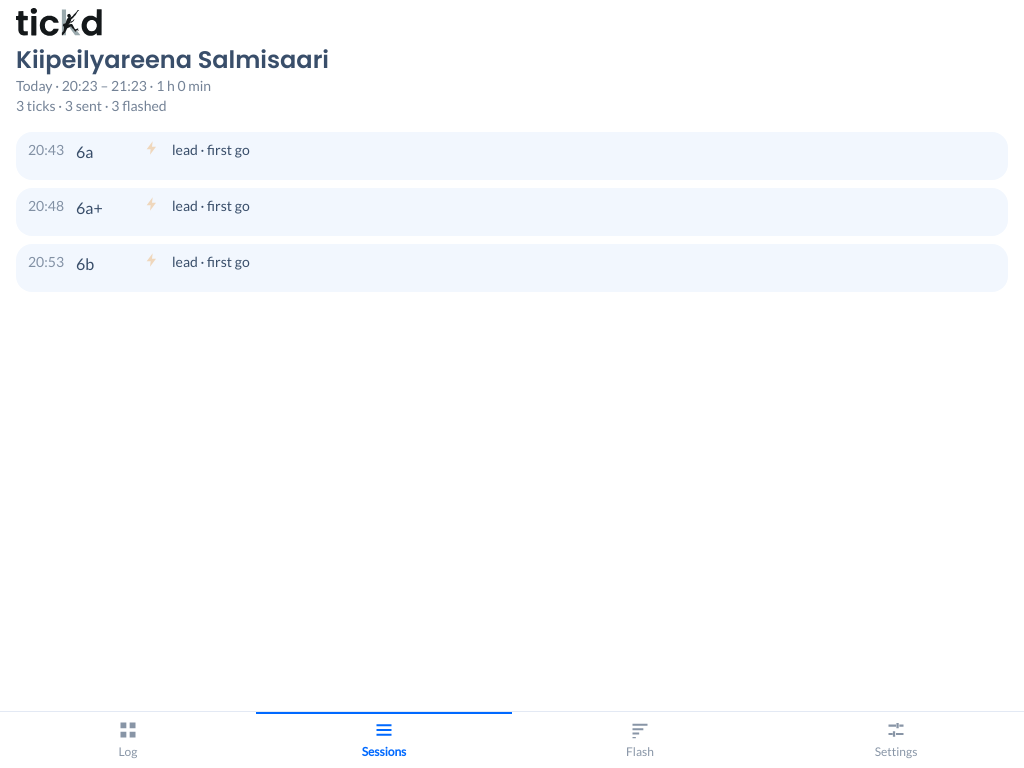
it: correcting a go from a closed session › corrects one go of several logged under the same wrong protection
Expected: the element that starts with "Kiipeilyareena Salmisaari" is shown, [16,43,1008,292]
Expected: the list named "Goes" is shown, [16,132,1008,292]
Click the button with aria-label "Detail for 6a+".
click(46, 206)  # box [16,188,1008,236]
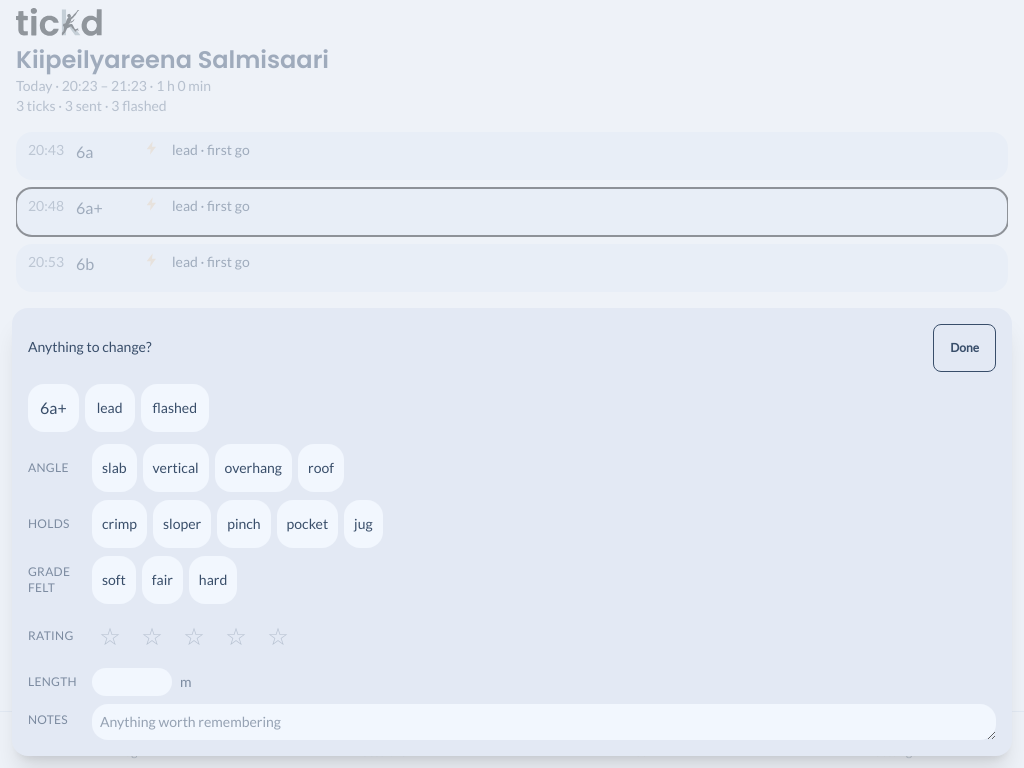
Click the button with aria-label "Protection, lead".
click(110, 408)  # box [85,384,135,432]
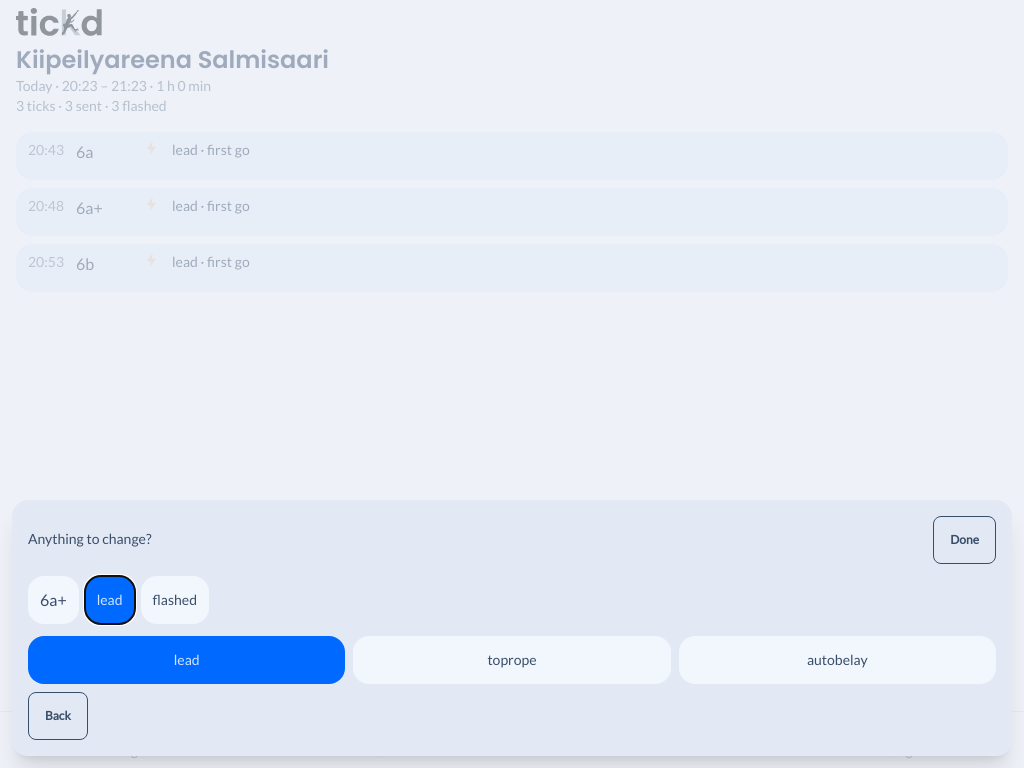
Click the button "toprope".
click(512, 660)  # box [353,636,671,684]
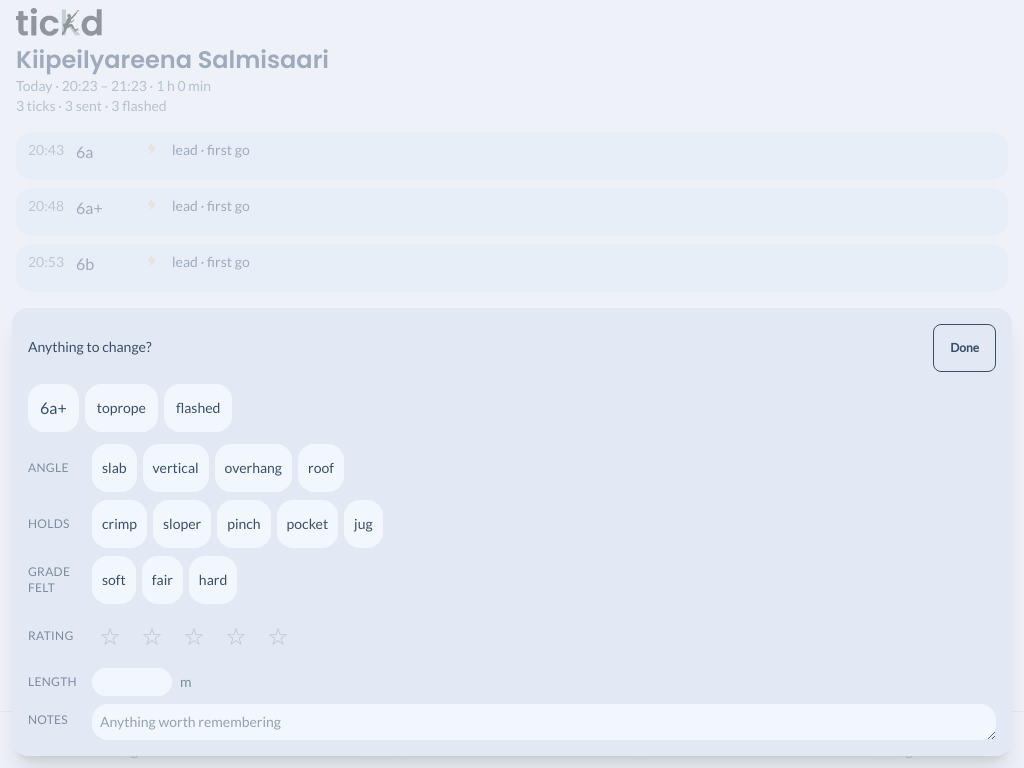
Now the button named "Protection, lead" reads "toprope", box [85,384,158,432]
